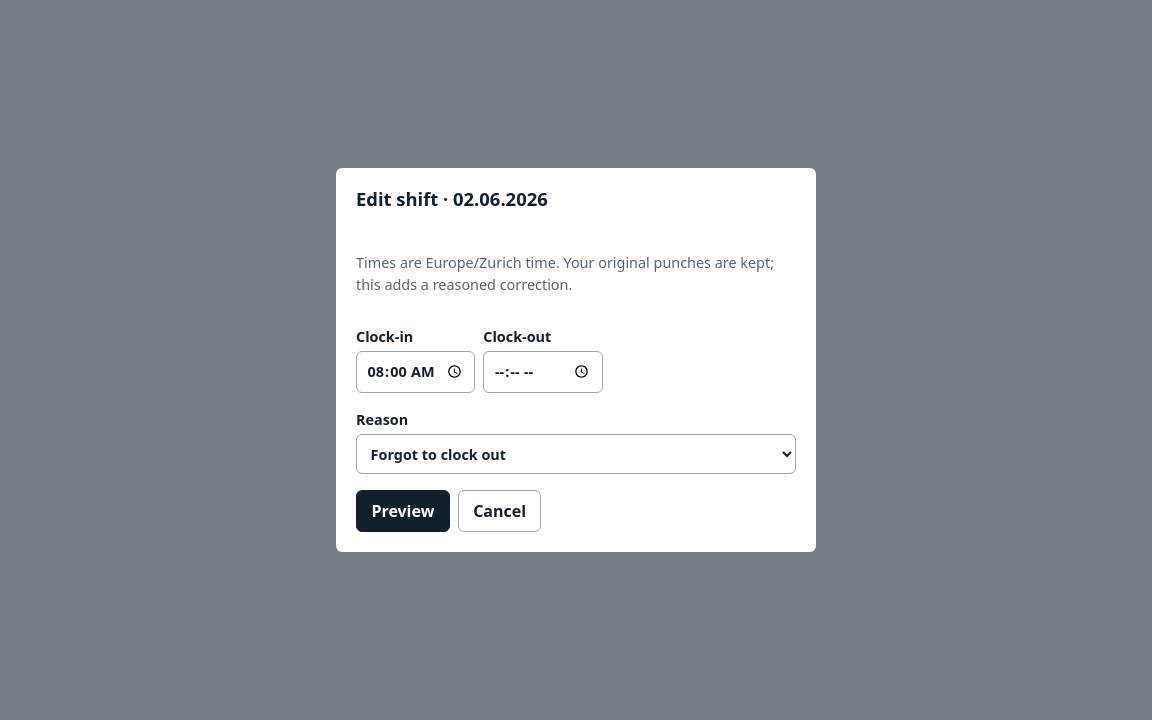
Test: shows the server message and keeps the dialog open when the edit is rejected
Click the button "Preview" at (403, 512), box left=356, top=490, right=450, bottom=532
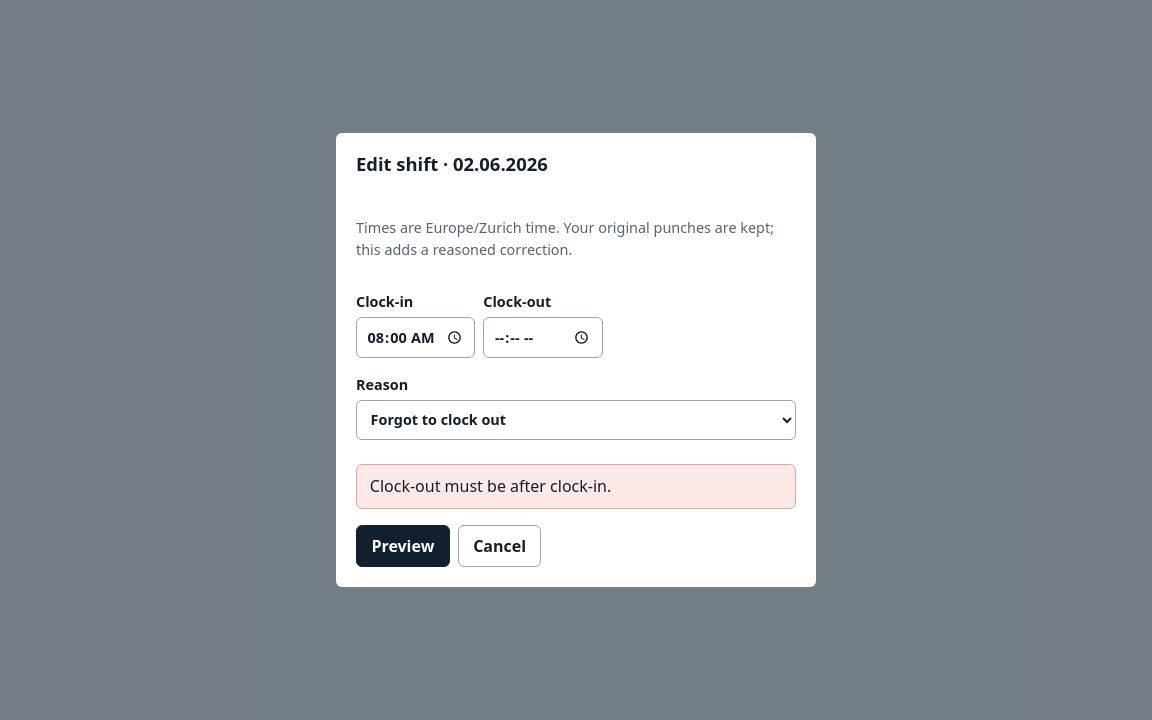
Result: the message reads "Clock-out must be after clock-in." at left=370, top=476, right=611, bottom=498
